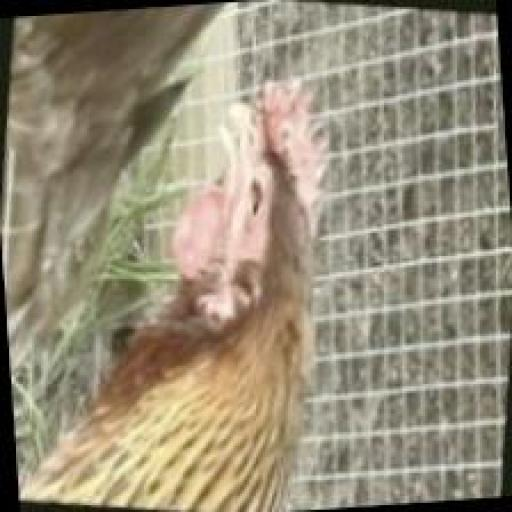disease: (196, 69, 334, 345)
